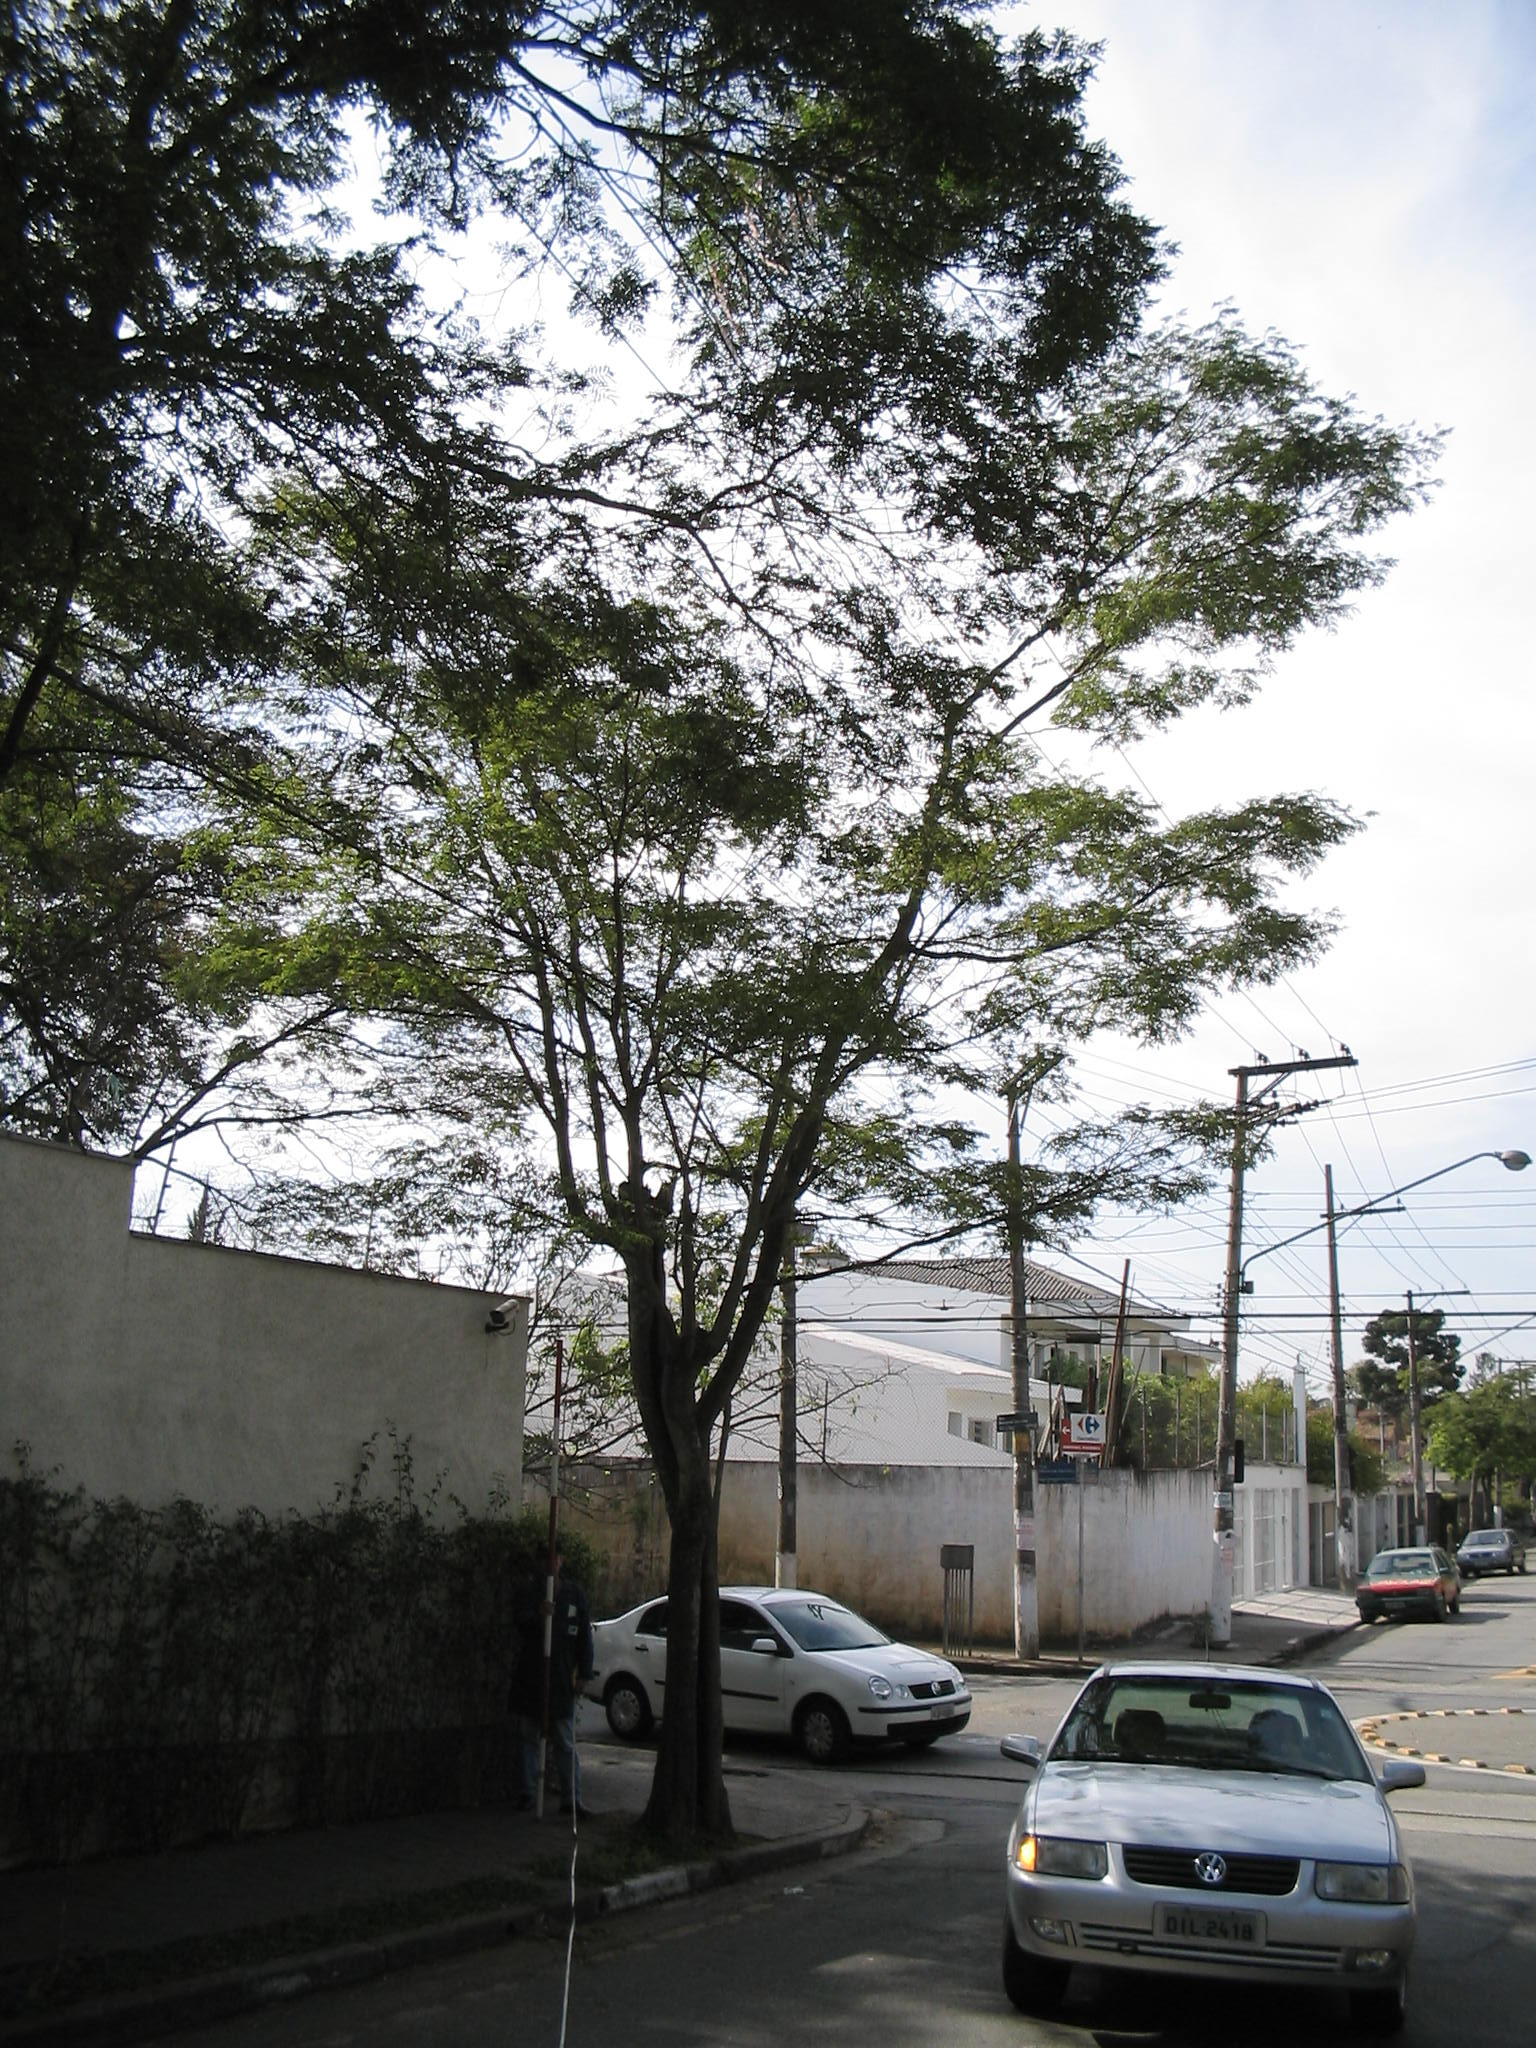crown: (195, 105, 1449, 1271)
stem: (595, 1445, 783, 1845)
stick: (511, 1337, 594, 1817)
tree: (186, 100, 1454, 1853)
